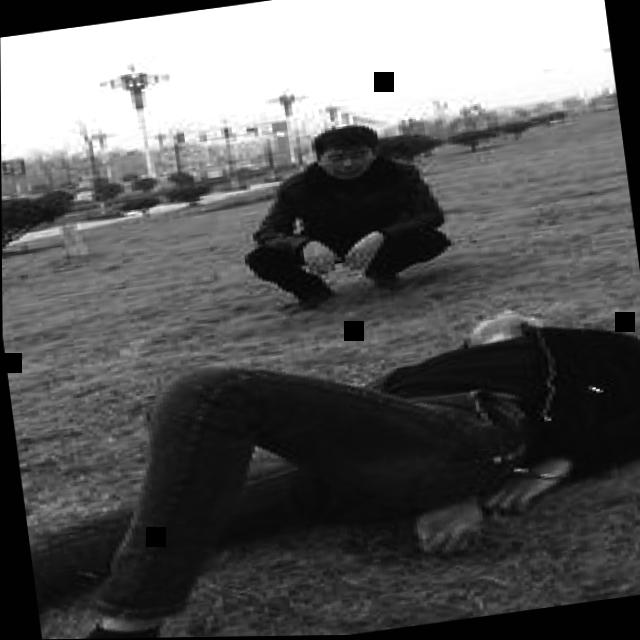Fall-Detected: (2, 257, 640, 640)
